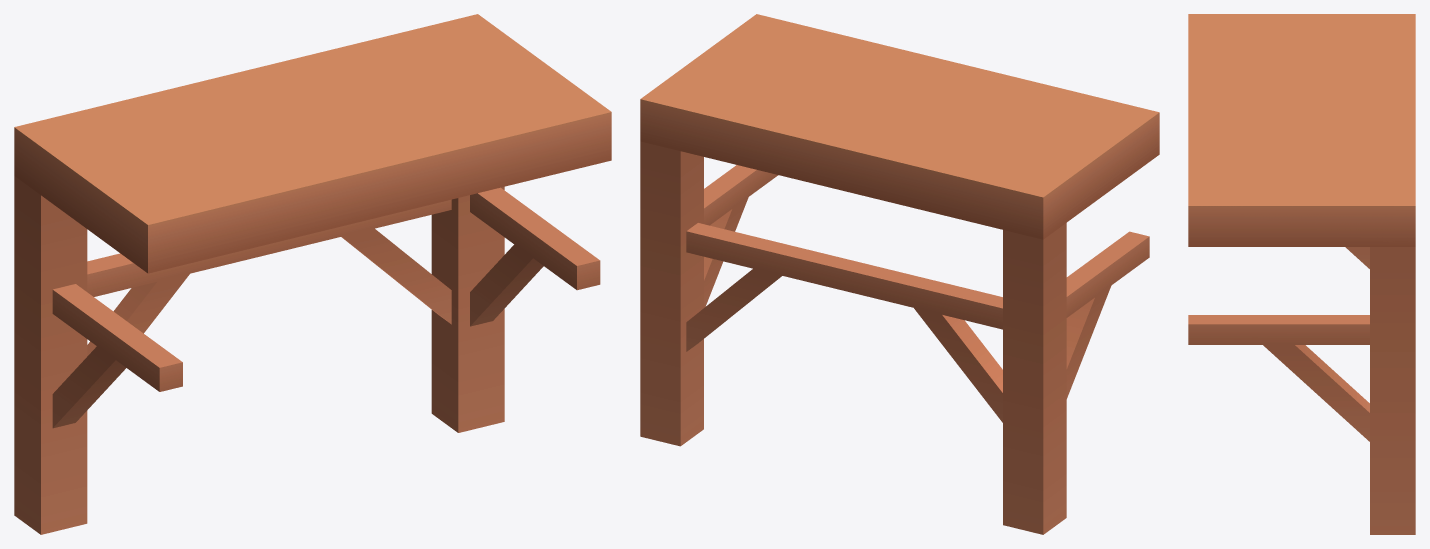
File: kenney-mini-skate-structure-platform.glb
3 renders of one model, left to right at view 1: azimuth 30°, elevation 25°; view 2: azimuth 150°, elevation 25°; view 3: azimuth 270°, elevation 25°, orthographic. The views are drawn at different scales.
Parts seen in each view (by area): view 1: structure-platform; view 2: structure-platform; view 3: structure-platform.
Part boxes in pixels (bbox=[...]): structure-platform: bbox=[14, 14, 611, 534]; structure-platform: bbox=[640, 14, 1159, 534]; structure-platform: bbox=[1188, 14, 1415, 534].
Bounding box in the file's own units: 1 × 0.8 × 0.5001.
Materials: 1 (1 with a texture image).
